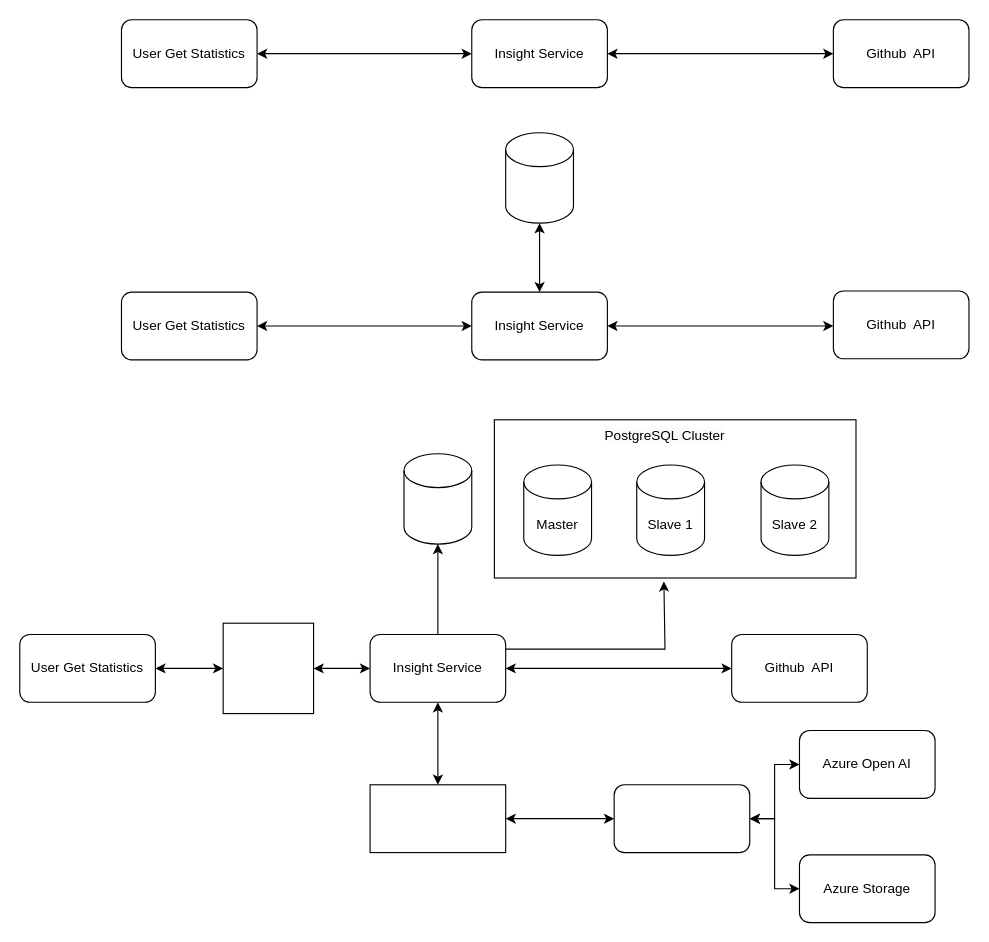
Some shapes in this 989 by 942 pixel diagram are drawn without their labels. Here are the shapes that lost their labels. From the top down, the box of each, then its label:
(505, 132, 573, 223): Database
(403, 453, 472, 544): Redis Clsuter
(222, 622, 314, 714): Load Balancer
(369, 784, 506, 853): Azure Service Bus
(613, 784, 750, 853): Analytics Service
